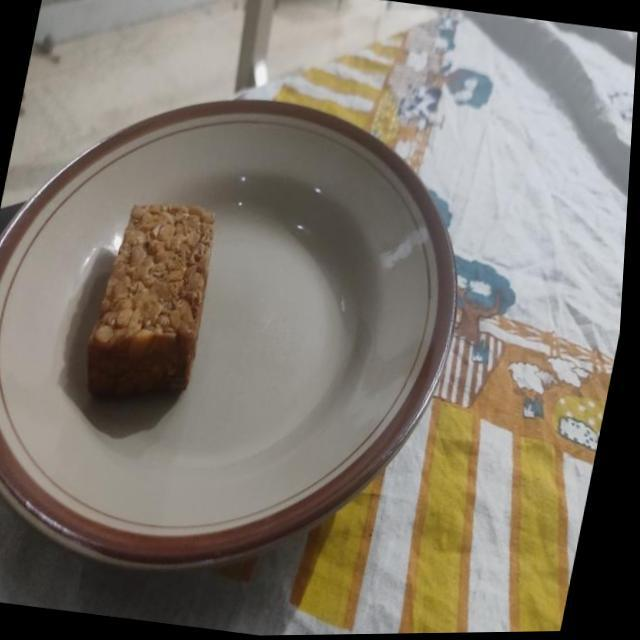tempe_goreng: (88, 204, 214, 394)
